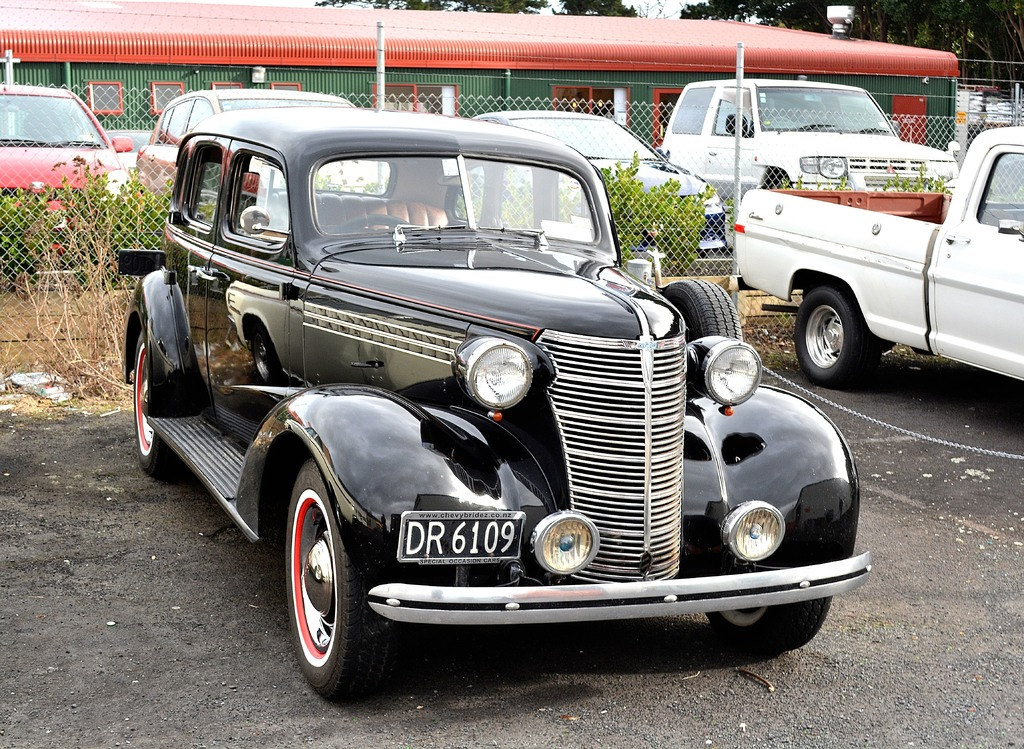Car: (109, 105, 887, 748), (727, 122, 1023, 404), (647, 72, 964, 298), (464, 101, 737, 274), (131, 78, 374, 227), (4, 80, 134, 260)
